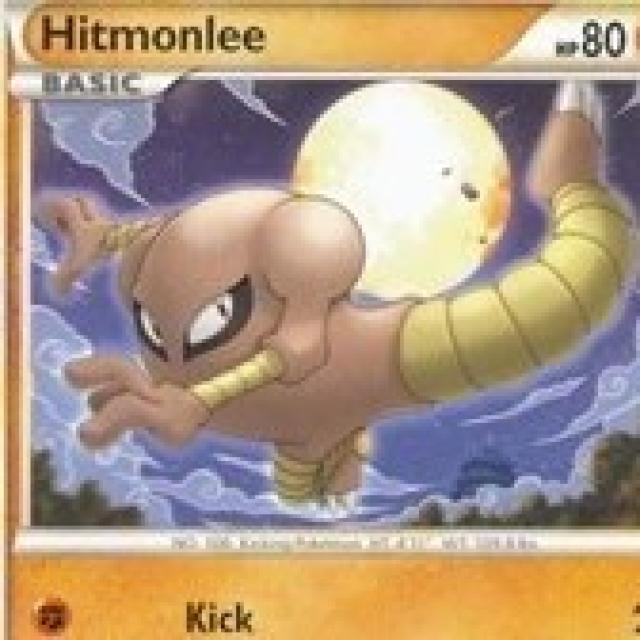Hitmonlee: (90, 185, 465, 498)
